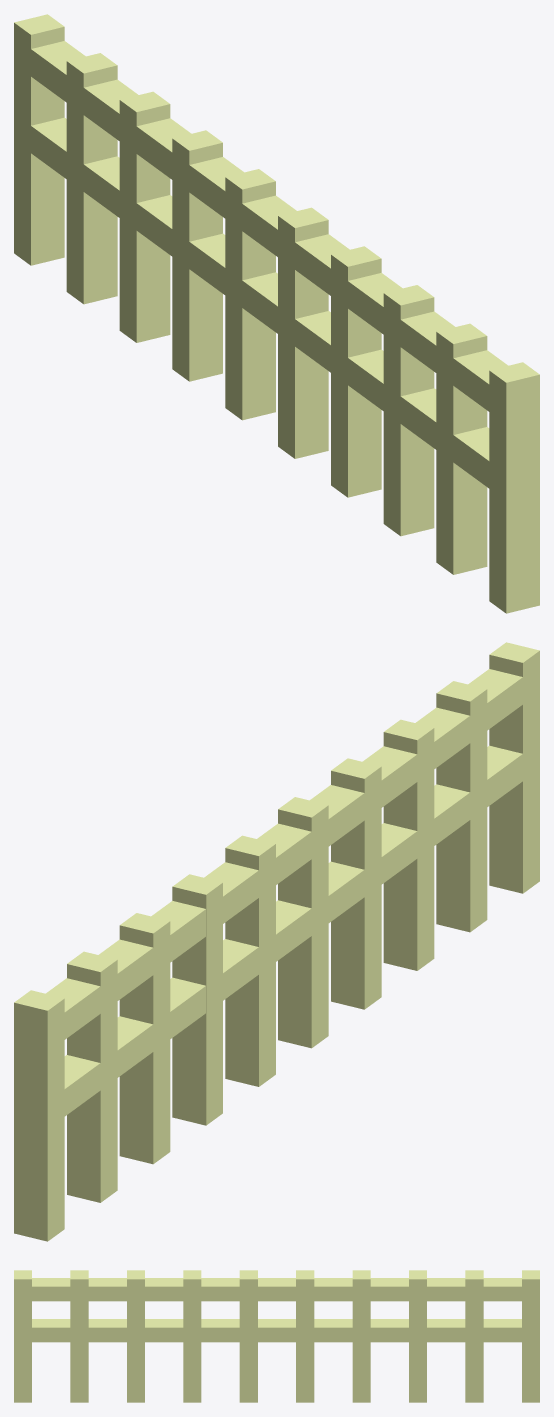
3 renders of one model, top to bottom at view 1: azimuth 30°, elevation 25°; view 2: azimuth 150°, elevation 25°; view 3: azimuth 270°, elevation 25°, orthographic. The views are drawn at different scales.
Visible parts, largest first — view 1: 篱笆; view 2: 篱笆; view 3: 篱笆.
Part boxes in pixels (left/top/right/bottom): 篱笆: left=14, top=14, right=539, bottom=613; 篱笆: left=14, top=642, right=539, bottom=1241; 篱笆: left=14, top=1270, right=539, bottom=1402.
Size of the model in its own units: 11.13 by 72.76 by 281.
